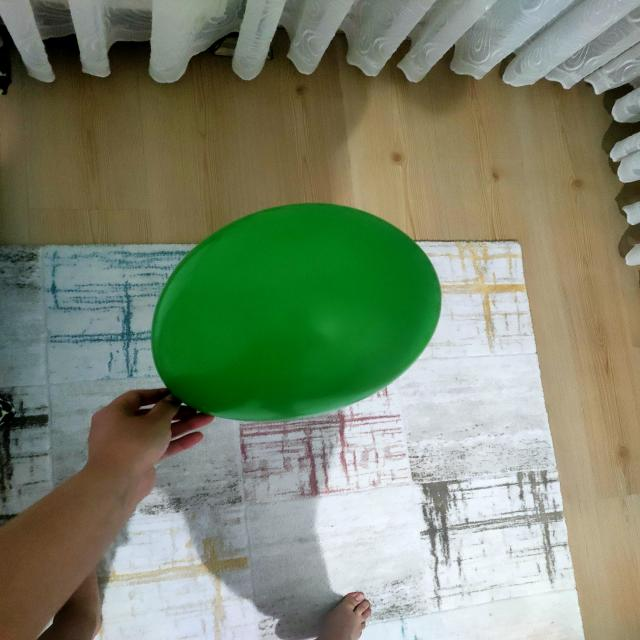green: (154, 205, 444, 424)
